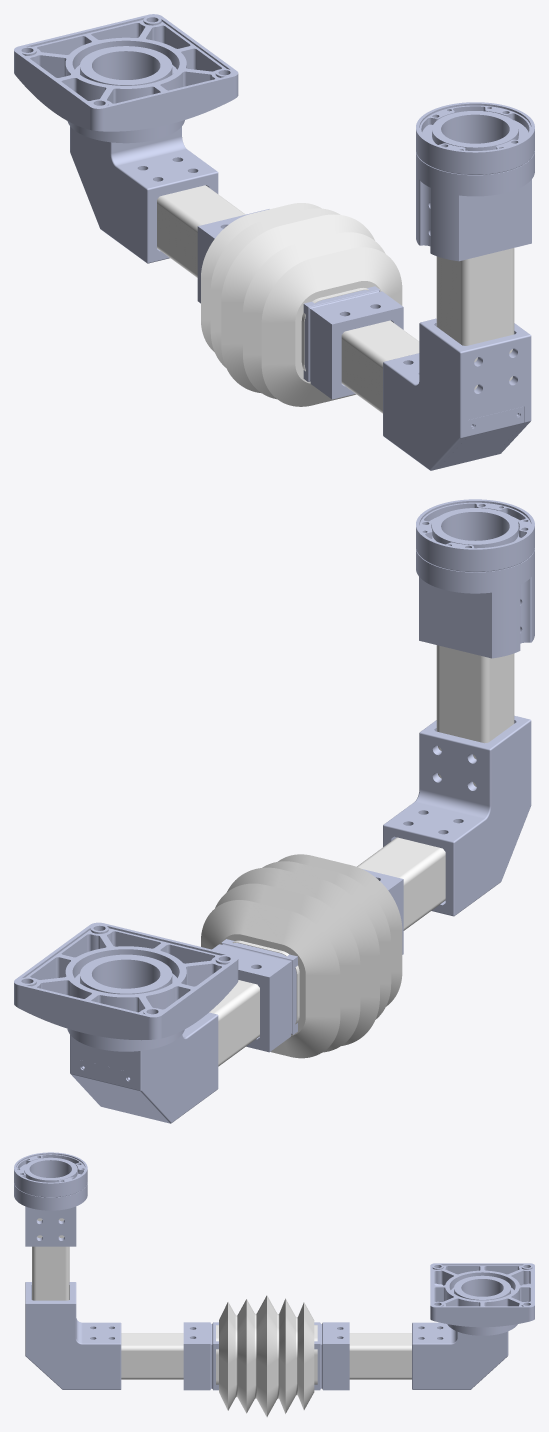
File: TDB83-LC-AEG01-6060-5-LA100-LB100-LC100.glb
3 renders of one model, top to bottom at view 1: azimuth 30°, elevation 25°; view 2: azimuth 150°, elevation 25°; view 3: azimuth 270°, elevation 25°, orthographic. The views are drawn at different scales.
Parts seen in each view (by area): view 1: NAUO1, NAUO10, NAUO7, NAUO5, NAUO6, NAUO9, NAUO4, NAUO2, NAUO8; view 2: NAUO1, NAUO10, NAUO5, NAUO7, NAUO6, NAUO8, NAUO4, NAUO2; view 3: NAUO1, NAUO10, NAUO5, NAUO7, NAUO2, NAUO4, NAUO8, NAUO9, NAUO6.
Boxes of the visible parts, x1=… form: NAUO1: x1=14, y1=14, x2=238, y2=263; NAUO10: x1=201, y1=203, x2=402, y2=406; NAUO7: x1=416, y1=102, x2=534, y2=261; NAUO5: x1=383, y1=318, x2=531, y2=470; NAUO6: x1=436, y1=248, x2=514, y2=389; NAUO9: x1=303, y1=286, x2=403, y2=399; NAUO4: x1=341, y1=320, x2=419, y2=413; NAUO2: x1=157, y1=185, x2=245, y2=277; NAUO8: x1=197, y1=209, x2=269, y2=303; NAUO1: x1=14, y1=922, x2=238, y2=1123; NAUO10: x1=201, y1=854, x2=402, y2=1058; NAUO5: x1=383, y1=715, x2=531, y2=916; NAUO7: x1=416, y1=499, x2=534, y2=658; NAUO6: x1=436, y1=645, x2=514, y2=786; NAUO8: x1=212, y1=939, x2=297, y2=1052; NAUO4: x1=357, y1=837, x2=445, y2=930; NAUO2: x1=209, y1=980, x2=259, y2=1066; NAUO1: x1=412, y1=1263, x2=534, y2=1389; NAUO10: x1=216, y1=1295, x2=317, y2=1416; NAUO5: x1=25, y1=1282, x2=121, y2=1389; NAUO7: x1=14, y1=1152, x2=87, y2=1246; NAUO2: x1=349, y1=1333, x2=411, y2=1379; NAUO4: x1=121, y1=1333, x2=183, y2=1379; NAUO8: x1=314, y1=1322, x2=349, y2=1390; NAUO9: x1=183, y1=1322, x2=218, y2=1390; NAUO6: x1=32, y1=1218, x2=69, y2=1300.
Bounding box in the file's own units: 0.1816 × 0.4238 × 0.835.
